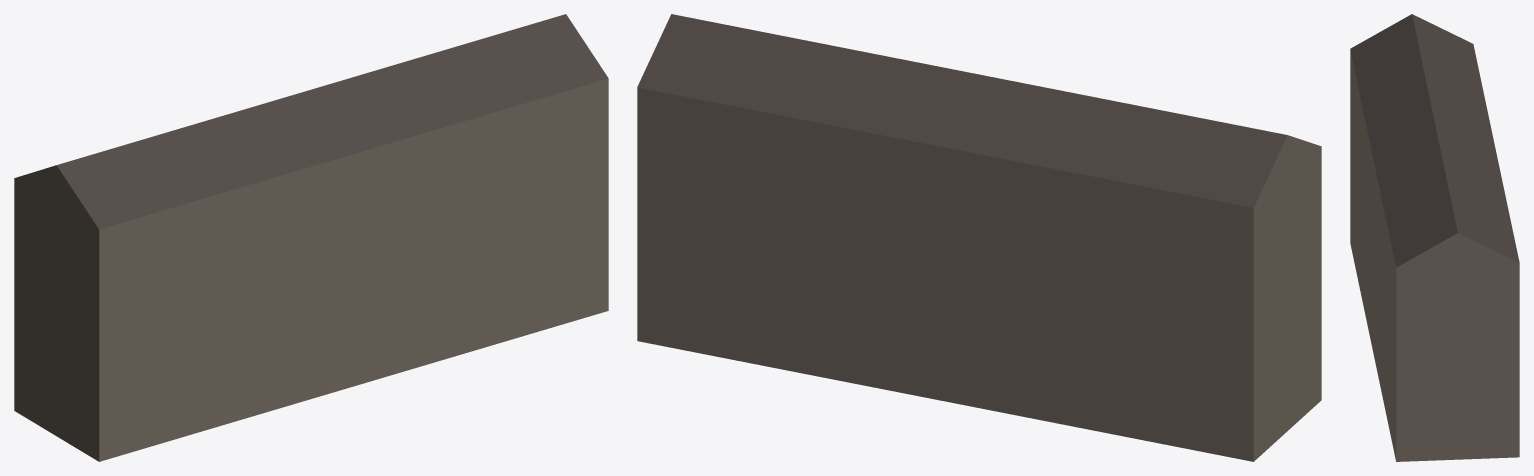
3 renders of one model, left to right at view 1: azimuth 30°, elevation 25°; view 2: azimuth 150°, elevation 25°; view 3: azimuth 270°, elevation 25°, orthographic. The views are drawn at different scales.
Parts seen in each view (by area): view 1: HP-w1424106464; view 2: HP-w1424106464; view 3: HP-w1424106464.
Boxes of the visible parts, x1,y1,x2,y2 form: HP-w1424106464: [14, 14, 608, 461]; HP-w1424106464: [637, 14, 1321, 461]; HP-w1424106464: [1350, 14, 1519, 461].
Size of the model in its own units: 14.82 by 7 by 4.75.
